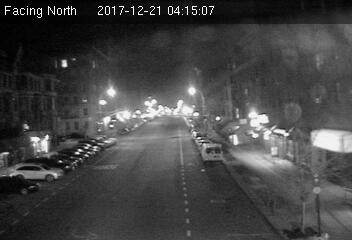truck: (200, 141, 224, 164)
